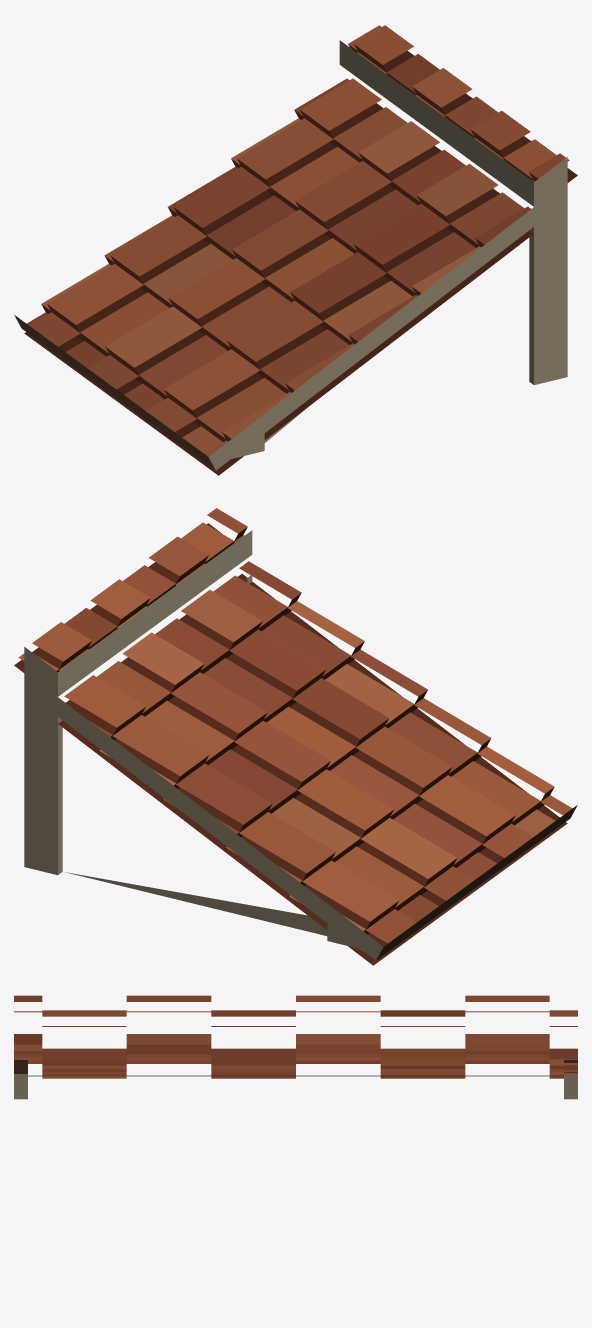
File: roof-tile.glb
The picture shows the model from 3 angles, top to bottom: view 1: azimuth 30°, elevation 25°; view 2: azimuth 150°, elevation 25°; view 3: azimuth 270°, elevation 25°; orthographic projection. The views are drawn at different scales.
Parts seen in each view (by area): view 1: roof-tile; view 2: roof-tile; view 3: roof-tile.
Part boxes in pixels (left/top/right/bottom): roof-tile: left=14, top=25, right=577, bottom=475; roof-tile: left=14, top=508, right=577, bottom=965; roof-tile: left=14, top=995, right=577, bottom=1099.
Size of the model in its own units: 1.1 by 0.6644 by 1.
